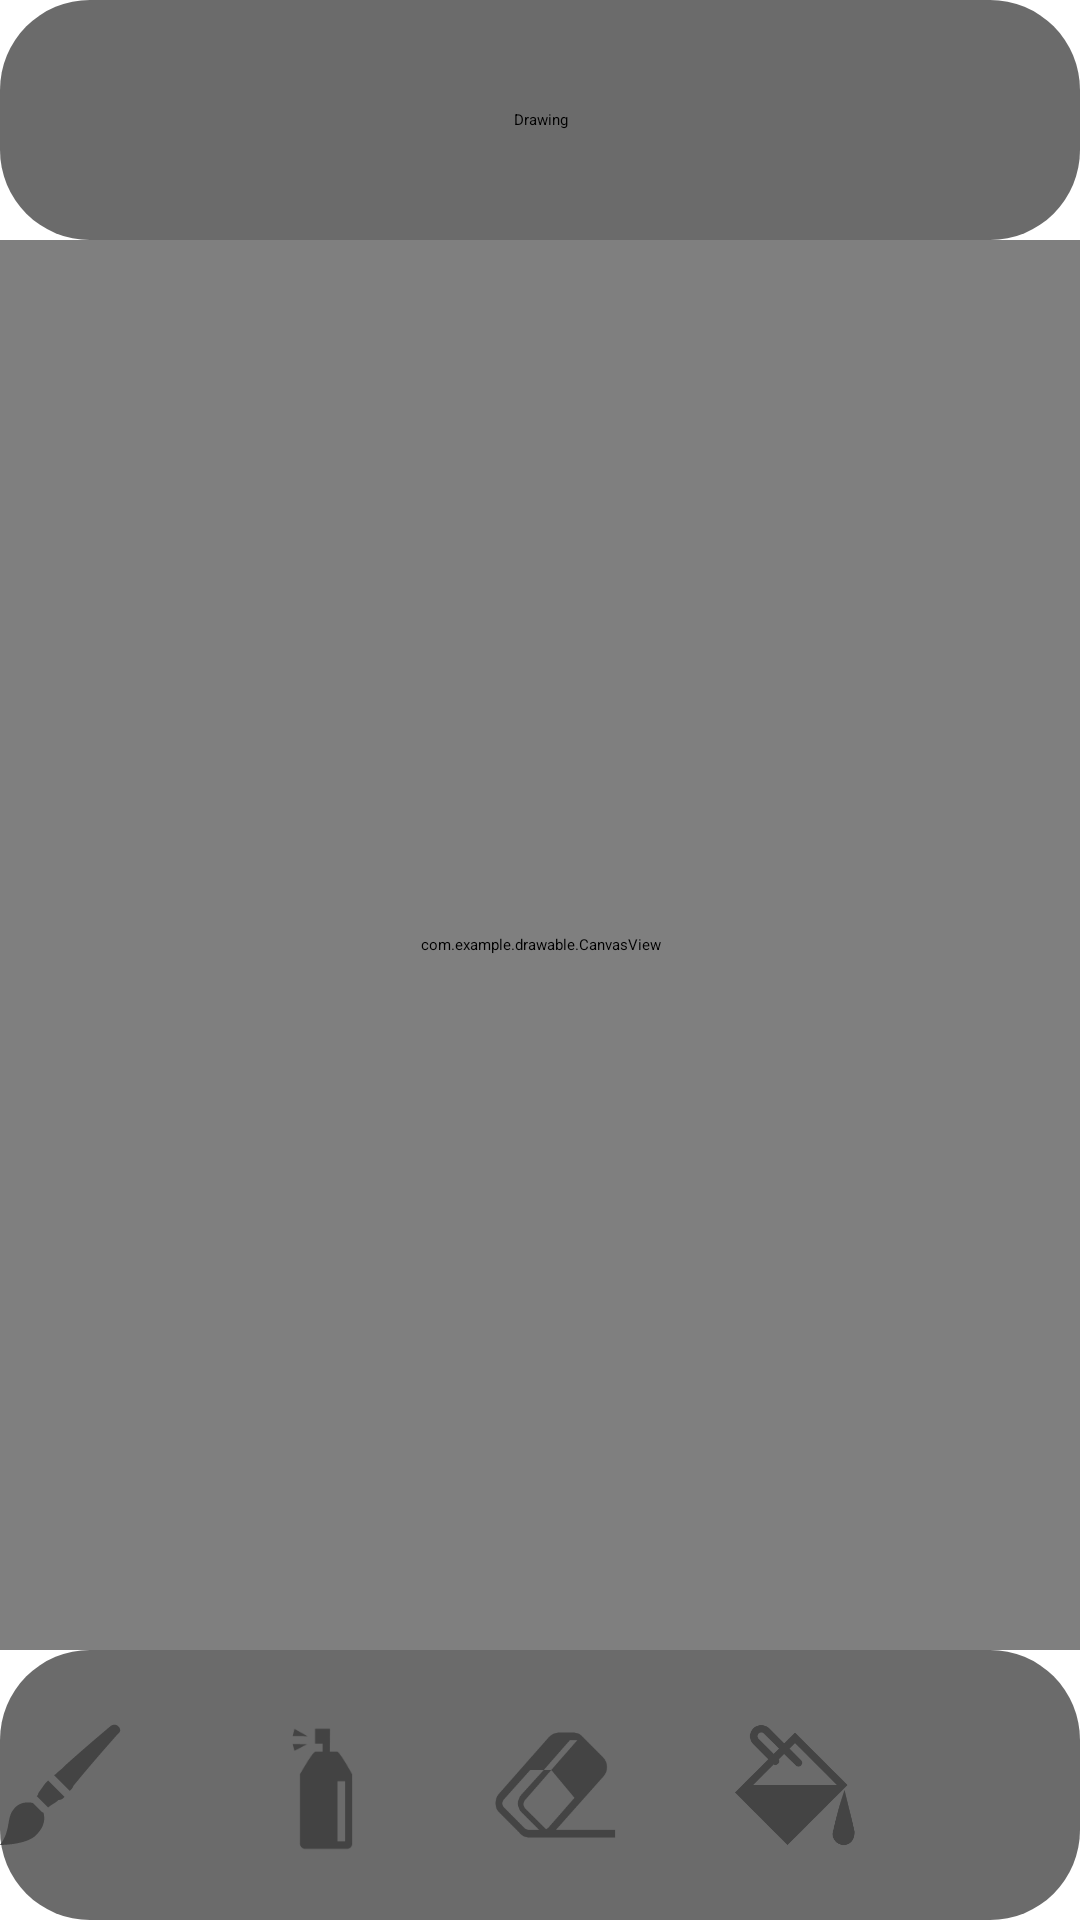

Icon bounding boxes for this 1080*1920 phone screenshot, format (x1, y1, x2, y2):
bucket: (735, 1725, 855, 1845)
Eraser: (496, 1733, 615, 1837)
Spraycan: (293, 1729, 352, 1849)
